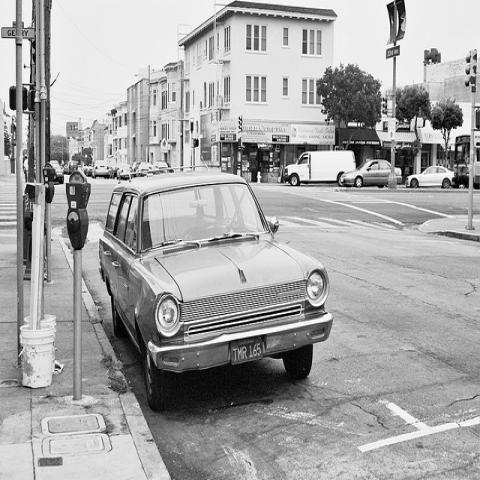bus: (455, 136, 480, 188)
car: (98, 174, 333, 412), (283, 149, 355, 188), (339, 160, 404, 190), (405, 164, 455, 190), (92, 160, 110, 180), (50, 160, 64, 184), (150, 161, 175, 172), (136, 162, 156, 173), (115, 168, 131, 179), (132, 161, 141, 172)
truck: (284, 150, 357, 187)
